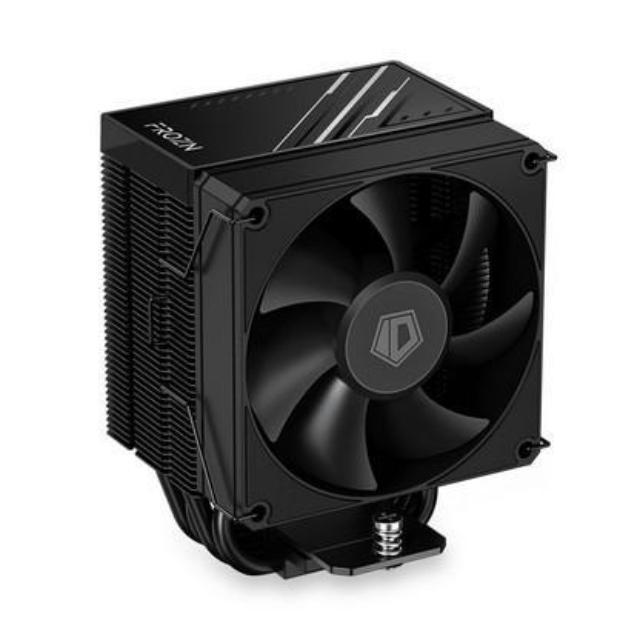CPU_Fan: (91, 50, 554, 587)
